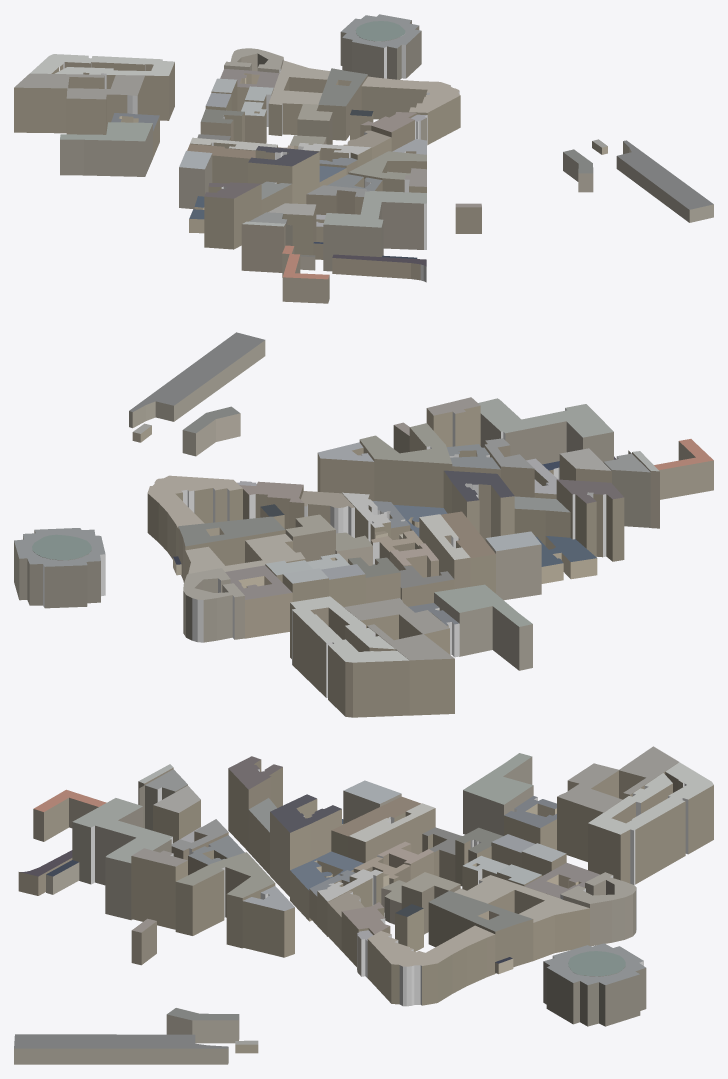
3 renders of one model, top to bottom at view 1: azimuth 30°, elevation 25°; view 2: azimuth 150°, elevation 25°; view 3: azimuth 270°, elevation 25°, orthographic. The views are drawn at different scales.
Parts seen in each view (by area): view 1: tuile; view 2: tuile; view 3: tuile.
Part boxes in pixels (left/top/right/bottom): tuile: left=14, top=14, right=713, bottom=303; tuile: left=14, top=332, right=713, bottom=717; tuile: left=14, top=746, right=713, bottom=1064.
Bounding box in the file's own units: 264 × 35.91 × 292.
